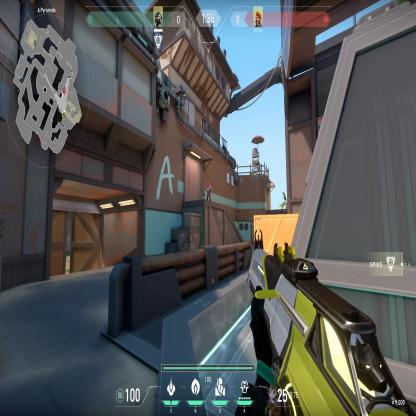enemy: (206, 180, 212, 202)
